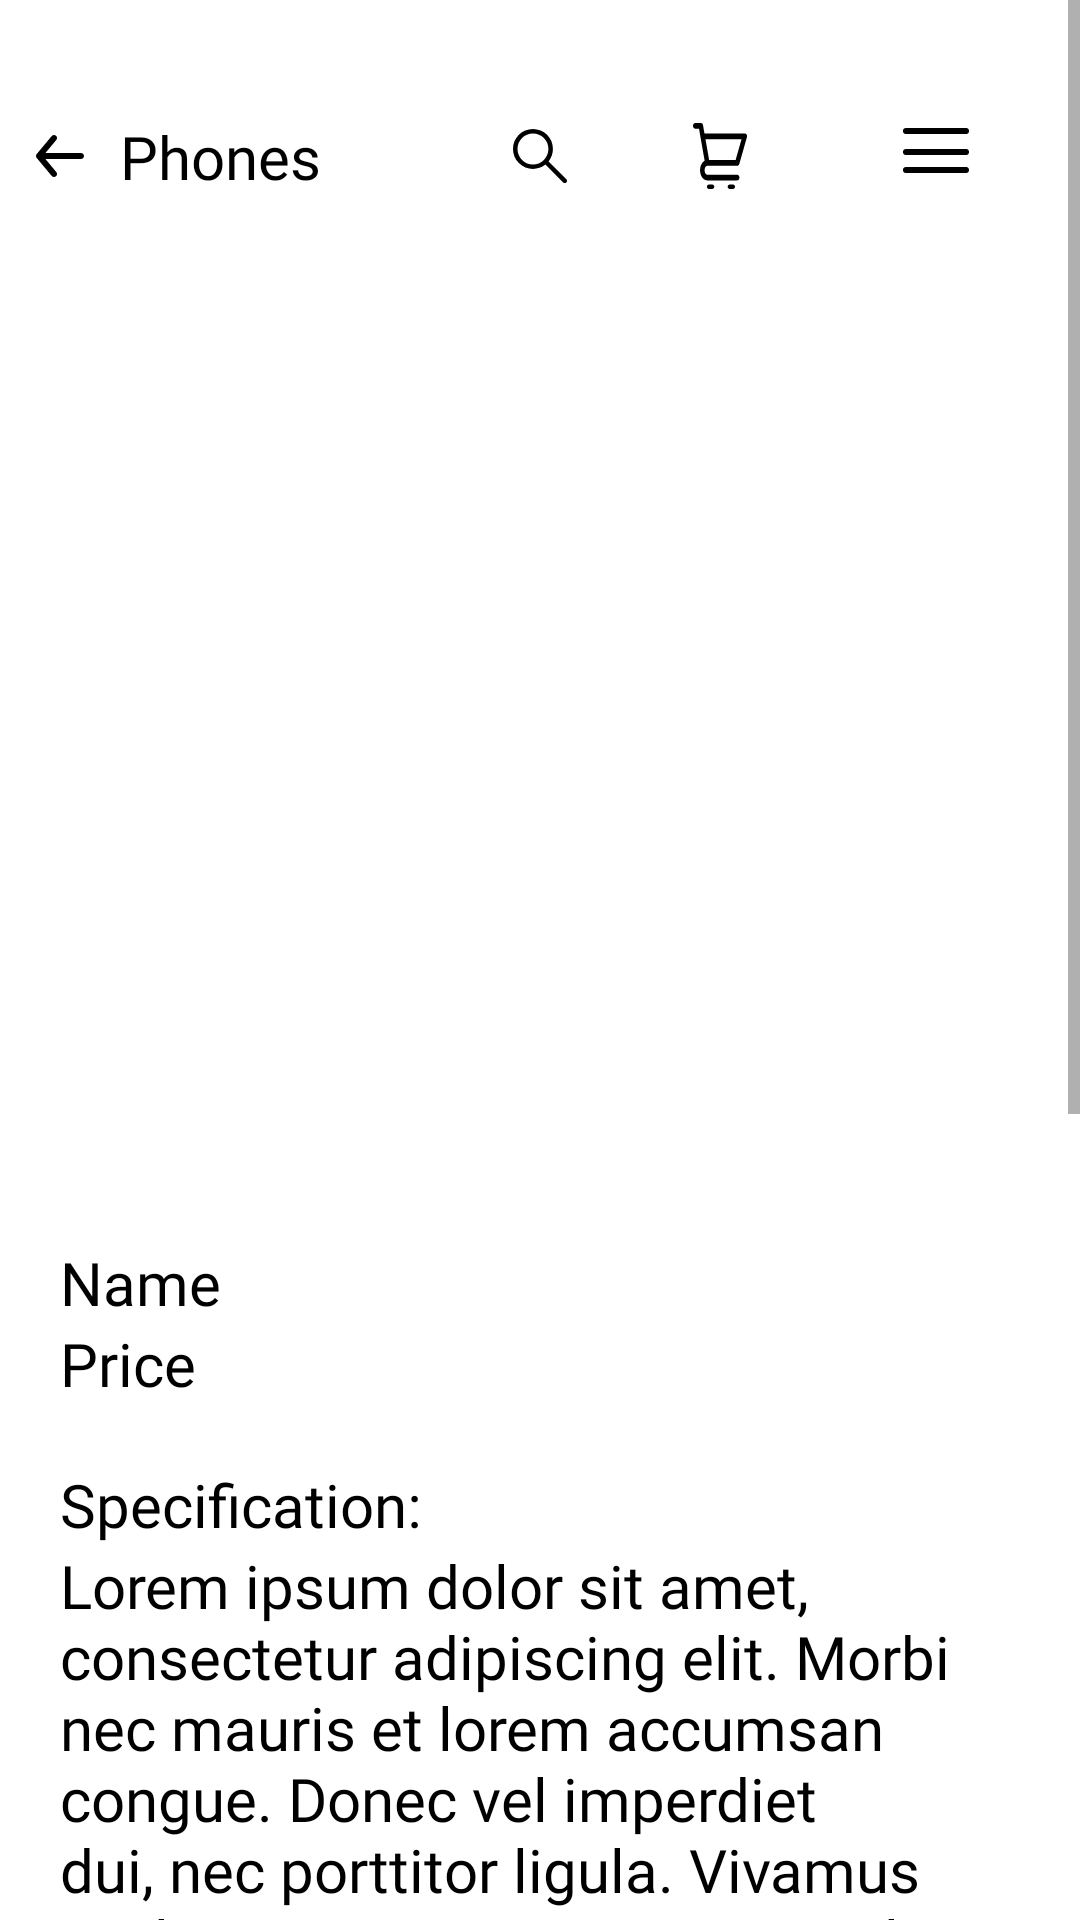

Named icons in this screenshot (1080px x 1920px) and their bounding boxes, bbox(x1, y1, x2, y2):
back: bbox(36, 135, 84, 177)
cart: bbox(693, 123, 747, 189)
menu: bbox(903, 128, 969, 173)
search: bbox(513, 129, 567, 183)
